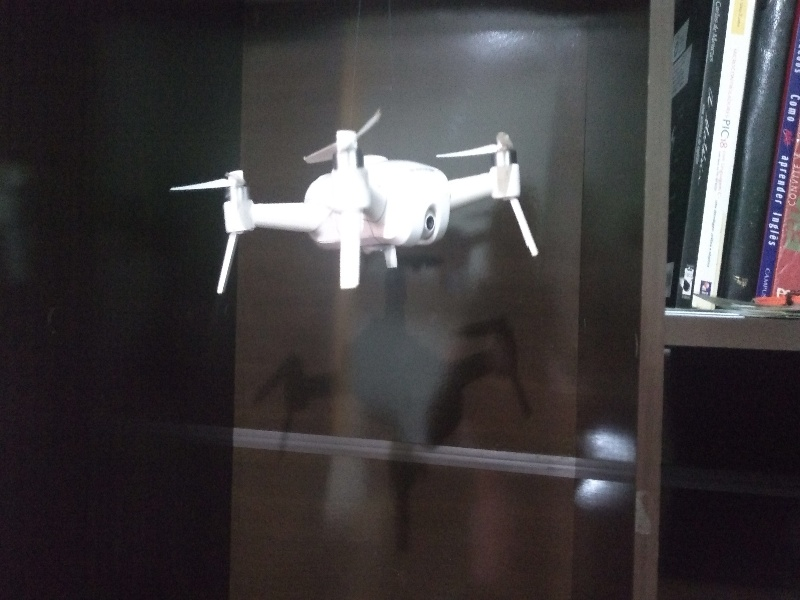drone: (179, 105, 546, 304)
